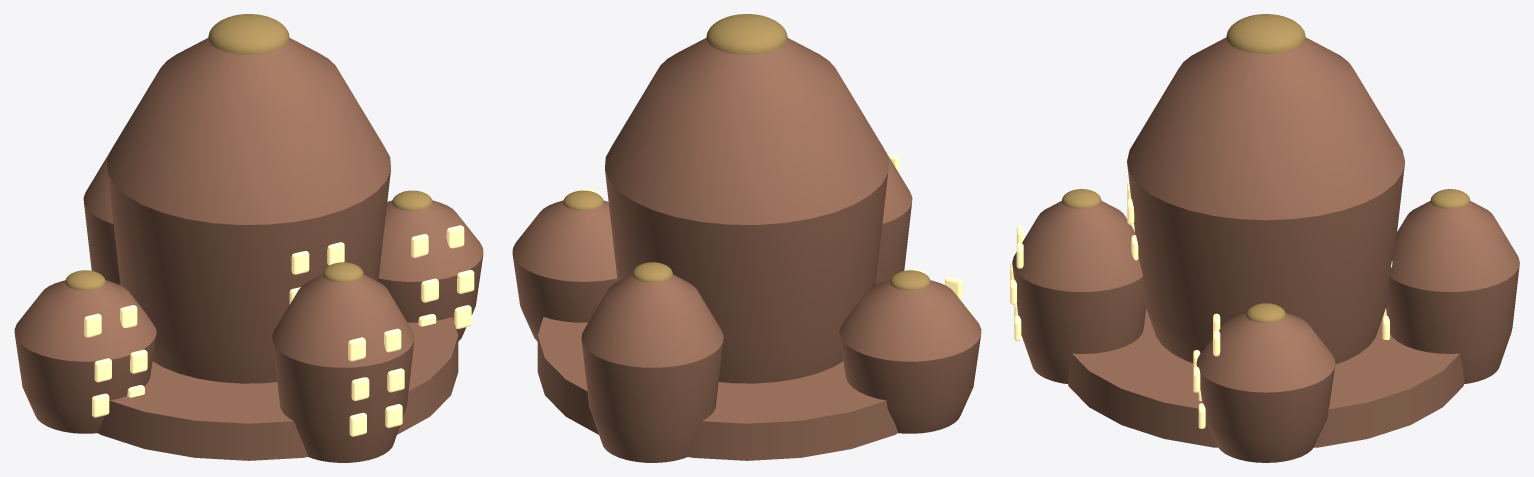
3 views of the same model, side by side, from view 1: azimuth 30°, elevation 25°; view 2: azimuth 150°, elevation 25°; view 3: azimuth 270°, elevation 25° (orthographic). The views are drawn at different scales.
Visible parts, largest first — view 1: Bulb shaped chamber, Bulb shaped chamber.004, Foundation drum, Bulb shaped chamber.003, Bulb shaped chamber.001, Bulb shaped chamber.002, Tower crown, Tower crown.004, Tower crown.003, Tower crown.001; view 2: Bulb shaped chamber, Bulb shaped chamber.002, Foundation drum, Bulb shaped chamber.003, Bulb shaped chamber.001, Bulb shaped chamber.004, Tower crown, Tower crown.002, Tower crown.003, Tower crown.001; view 3: Bulb shaped chamber, Foundation drum, Bulb shaped chamber.002, Bulb shaped chamber.004, Bulb shaped chamber.001, Tower crown, Tower crown.001, Tower crown.002, Tower crown.004.
Part boxes in pixels (x1=…): Bulb shaped chamber: x1=107, y1=38, x2=390, y2=383; Bulb shaped chamber.004: x1=272, y1=274, x2=414, y2=462; Foundation drum: x1=98, y1=317, x2=458, y2=460; Bulb shaped chamber.003: x1=14, y1=280, x2=156, y2=433; Bulb shaped chamber.001: x1=378, y1=200, x2=483, y2=341; Bulb shaped chamber.002: x1=83, y1=151, x2=120, y2=285; Tower crown: x1=208, y1=14, x2=289, y2=54; Tower crown.004: x1=323, y1=262, x2=363, y2=282; Tower crown.003: x1=65, y1=270, x2=105, y2=290; Tower crown.001: x1=392, y1=190, x2=432, y2=210; Bulb shaped chamber: x1=605, y1=38, x2=888, y2=383; Bulb shaped chamber.002: x1=581, y1=274, x2=723, y2=462; Foundation drum: x1=537, y1=317, x2=897, y2=460; Bulb shaped chamber.003: x1=839, y1=280, x2=981, y2=433; Bulb shaped chamber.001: x1=512, y1=200, x2=617, y2=341; Bulb shaped chamber.004: x1=875, y1=151, x2=912, y2=285; Tower crown: x1=706, y1=14, x2=787, y2=54; Tower crown.002: x1=632, y1=262, x2=672, y2=282; Tower crown.003: x1=890, y1=270, x2=930, y2=290; Tower crown.001: x1=563, y1=190, x2=603, y2=210; Bulb shaped chamber: x1=1127, y1=37, x2=1404, y2=364; Foundation drum: x1=1068, y1=308, x2=1463, y2=447; Bulb shaped chamber.002: x1=1386, y1=201, x2=1519, y2=383; Bulb shaped chamber.004: x1=1012, y1=201, x2=1145, y2=383; Bulb shaped chamber.001: x1=1196, y1=313, x2=1335, y2=462; Tower crown: x1=1226, y1=14, x2=1305, y2=53; Tower crown.001: x1=1246, y1=303, x2=1285, y2=323; Tower crown.002: x1=1430, y1=189, x2=1470, y2=208; Tower crown.004: x1=1062, y1=189, x2=1101, y2=208.
Bounding box in the file's own units: 2.53 × 1.89 × 2.55.
